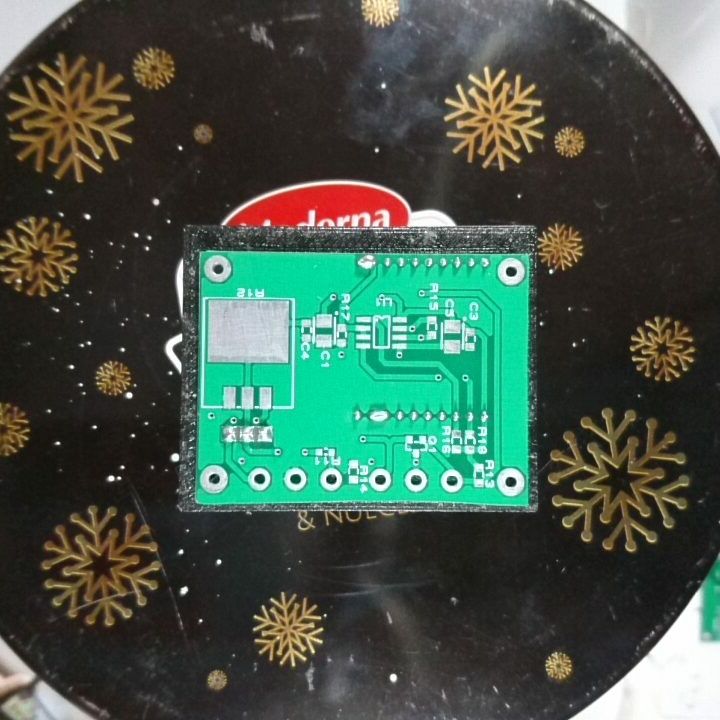F: (202, 253, 234, 286), (199, 463, 229, 498), (494, 255, 526, 287), (494, 466, 527, 497), (282, 464, 309, 493), (437, 467, 465, 494), (248, 465, 274, 493), (402, 467, 429, 492), (368, 467, 393, 493), (319, 467, 344, 493)
P: (366, 406, 391, 426), (354, 253, 378, 272)
